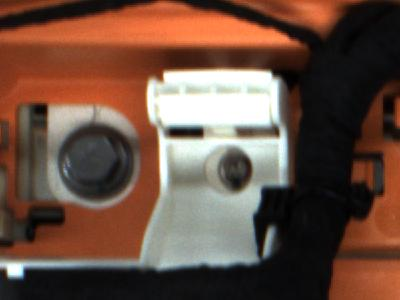nut_b: (50, 123, 138, 203)
